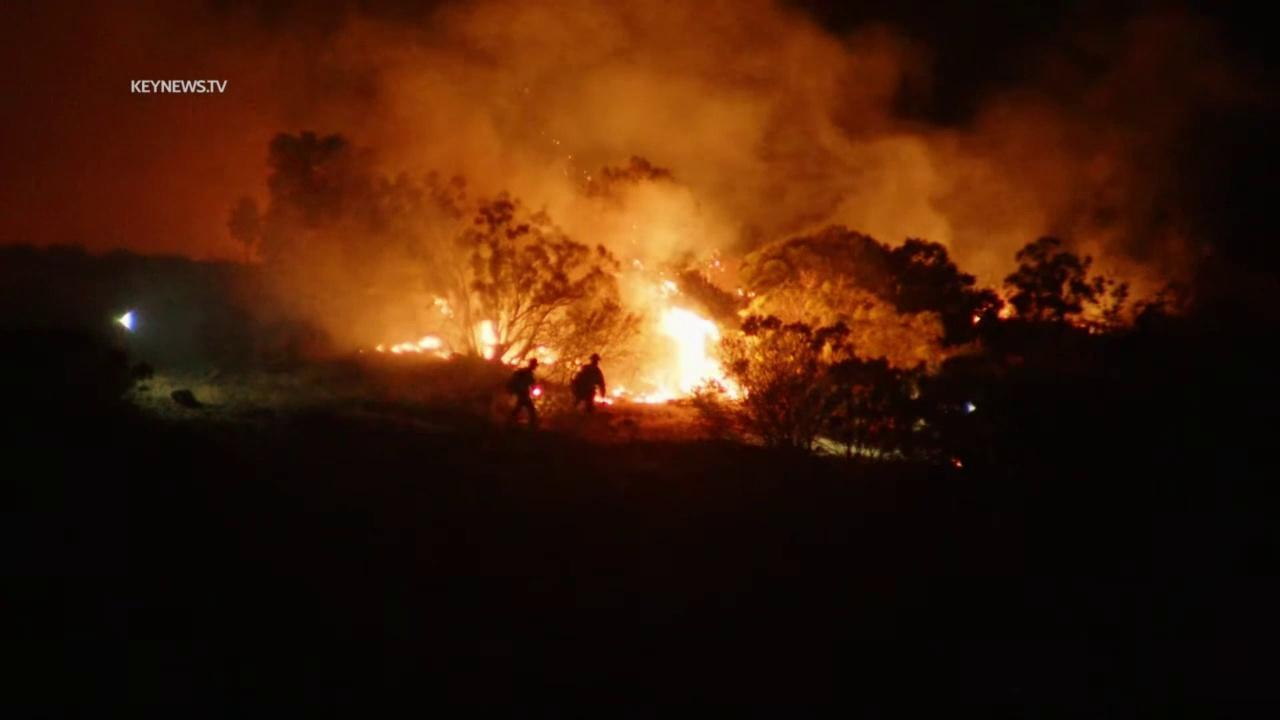fire: (611, 303, 749, 404), (373, 334, 454, 361), (474, 318, 499, 362), (431, 293, 456, 319), (499, 346, 526, 366), (996, 299, 1018, 319), (537, 345, 555, 366), (588, 393, 613, 406), (528, 385, 545, 398), (949, 456, 963, 469), (735, 287, 746, 298), (972, 315, 982, 325)
smoke: (1, 0, 1215, 418)
